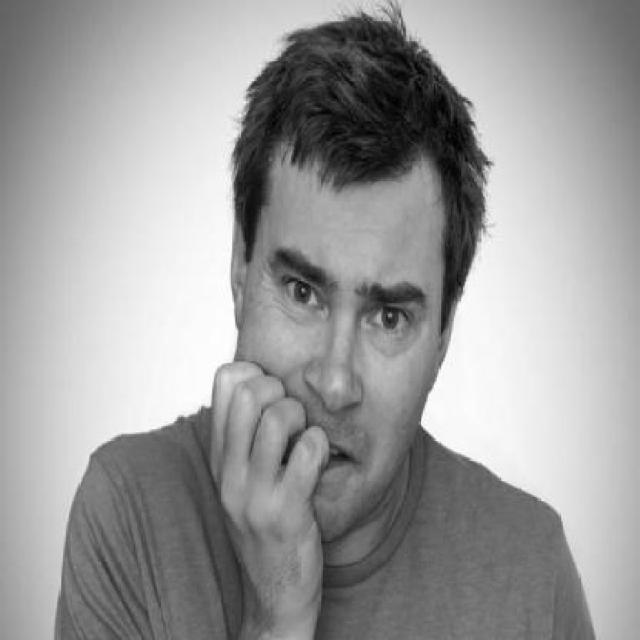fear: (266, 239, 425, 470)
